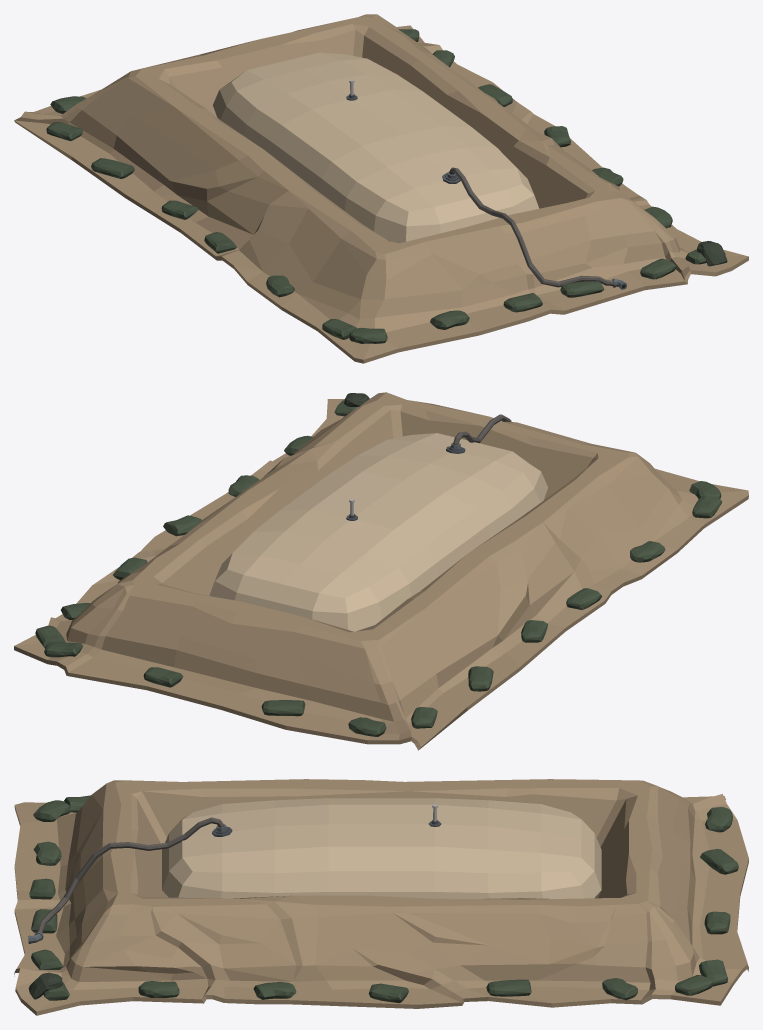
Rendered from SM_Prop_Fuel_Bladder_01.glb.
3 renders of one model, top to bottom at view 1: azimuth 30°, elevation 25°; view 2: azimuth 150°, elevation 25°; view 3: azimuth 270°, elevation 25°, orthographic. The views are drawn at different scales.
Visible parts, largest first — view 1: SM_Prop_Fuel_Bladder_01; view 2: SM_Prop_Fuel_Bladder_01; view 3: SM_Prop_Fuel_Bladder_01.
Boxes of the visible parts, left/top/right/bottom form: SM_Prop_Fuel_Bladder_01: left=14, top=14, right=748, bottom=363; SM_Prop_Fuel_Bladder_01: left=14, top=392, right=748, bottom=750; SM_Prop_Fuel_Bladder_01: left=14, top=779, right=748, bottom=1015.
Size of the model in its own units: 9.04 by 1.98 by 13.07.
Materials: 1 (1 with a texture image).
